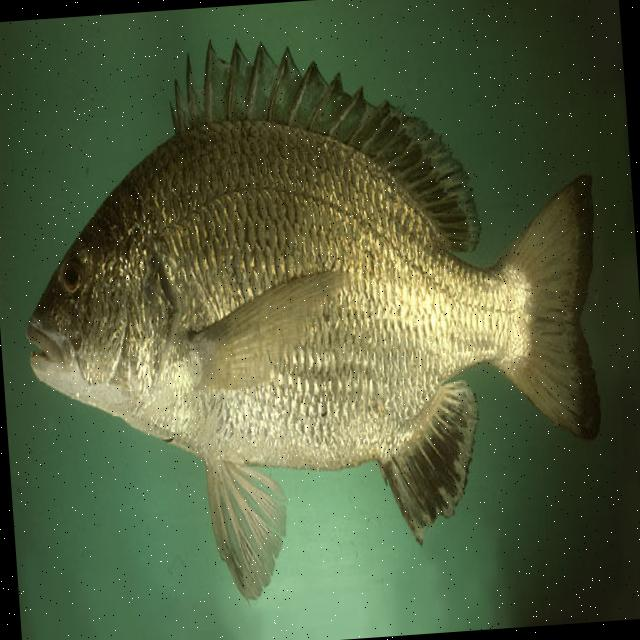ikan: (4, 11, 620, 616)
